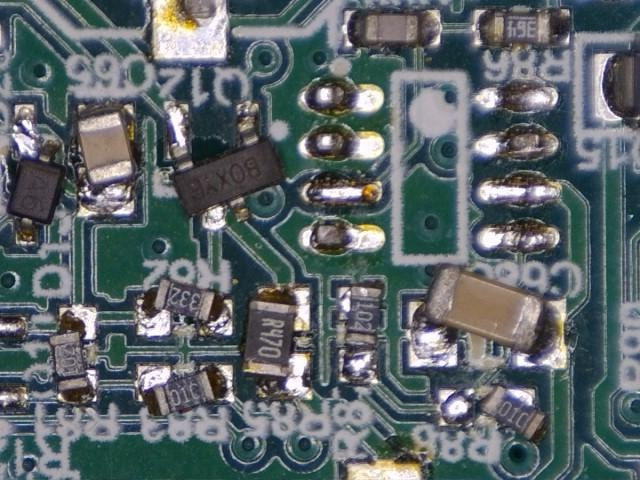pcb_defect: (407, 261, 570, 370), (162, 99, 286, 230), (6, 101, 66, 246), (241, 285, 313, 403), (76, 101, 140, 218), (437, 382, 548, 444), (136, 277, 234, 338), (135, 362, 235, 417), (48, 305, 99, 404), (336, 283, 384, 385)
